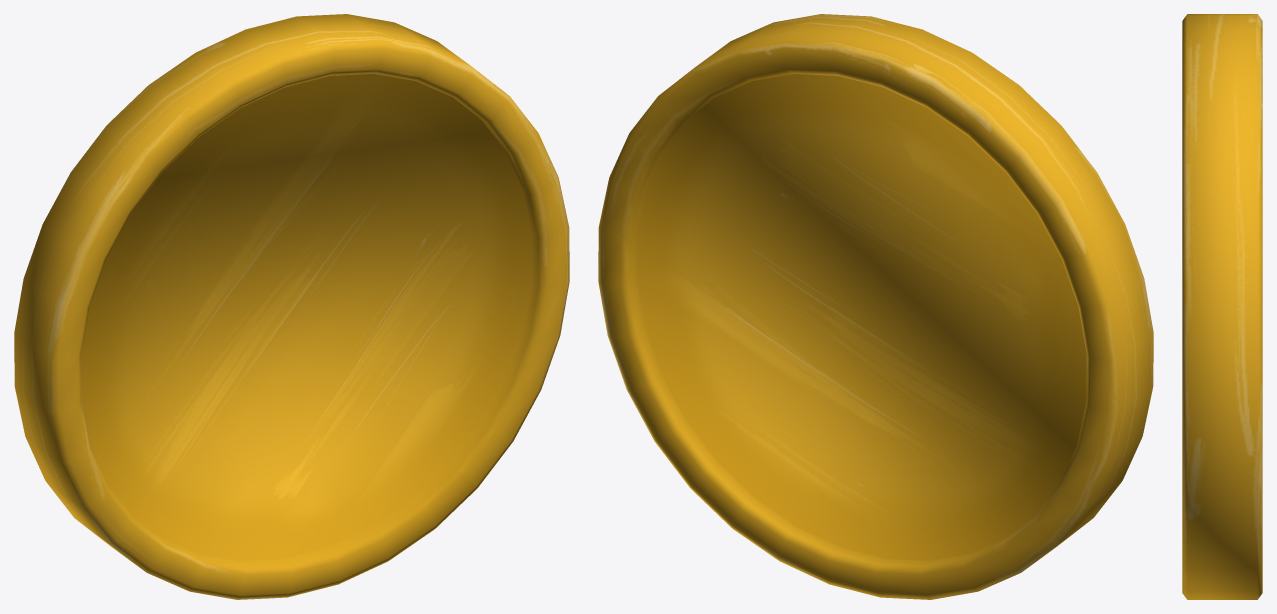
The model's file is Coin.FBX.
The picture shows the model from 3 angles, left to right: view 1: azimuth 30°, elevation 25°; view 2: azimuth 150°, elevation 25°; view 3: azimuth 270°, elevation 25°; orthographic projection. The views are drawn at different scales.
Parts seen in each view (by area): view 1: Cylinder002; view 2: Cylinder002; view 3: Cylinder002.
Part boxes in pixels (x1,y1,x2,y2): Cylinder002: [14, 14, 569, 599]; Cylinder002: [598, 14, 1153, 599]; Cylinder002: [1182, 14, 1262, 599].
Size of the model in its own units: 85.24 by 85.24 by 11.69.
